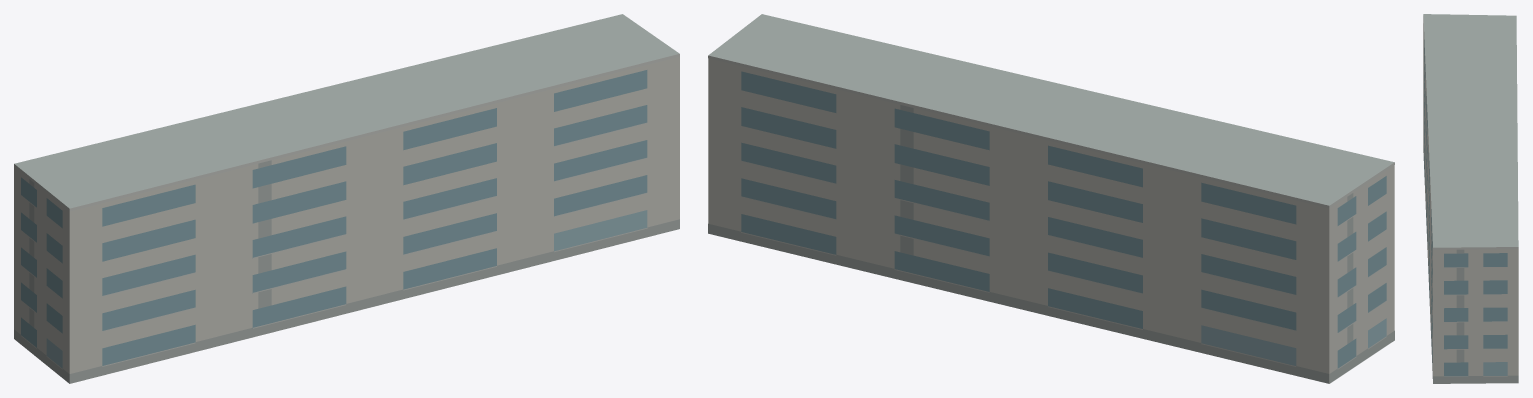
Rendered from residential-8358855f-e7ae-40ba-9115-9fc63957089b.glb.
The picture shows the model from 3 angles, left to right: view 1: azimuth 30°, elevation 25°; view 2: azimuth 150°, elevation 25°; view 3: azimuth 270°, elevation 25°; orthographic projection. The views are drawn at different scales.
Parts seen in each view (by area): view 1: residential-8358855f-e7ae-40ba-9115-9fc63957089b.tmp; view 2: residential-8358855f-e7ae-40ba-9115-9fc63957089b.tmp; view 3: residential-8358855f-e7ae-40ba-9115-9fc63957089b.tmp.
Boxes of the visible parts, x1,y1,x2,y2 form: residential-8358855f-e7ae-40ba-9115-9fc63957089b.tmp: (14, 14, 679, 383); residential-8358855f-e7ae-40ba-9115-9fc63957089b.tmp: (708, 14, 1394, 383); residential-8358855f-e7ae-40ba-9115-9fc63957089b.tmp: (1423, 14, 1518, 383).
Bounding box in the file's own units: 56.13 × 15.25 × 9.66.
